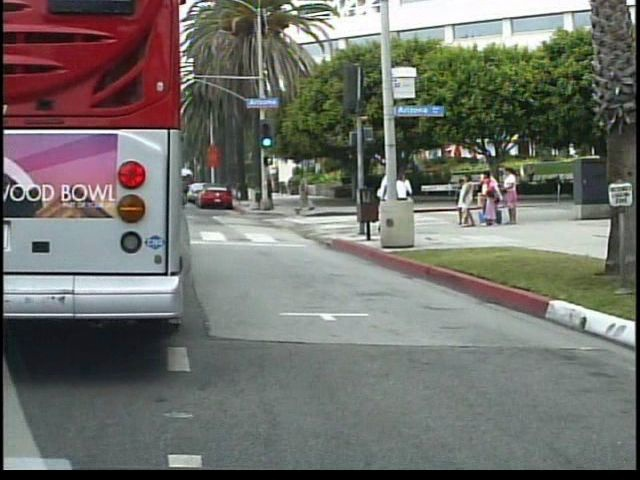person: (378, 162, 403, 239), (397, 169, 420, 229), (297, 170, 319, 217)
